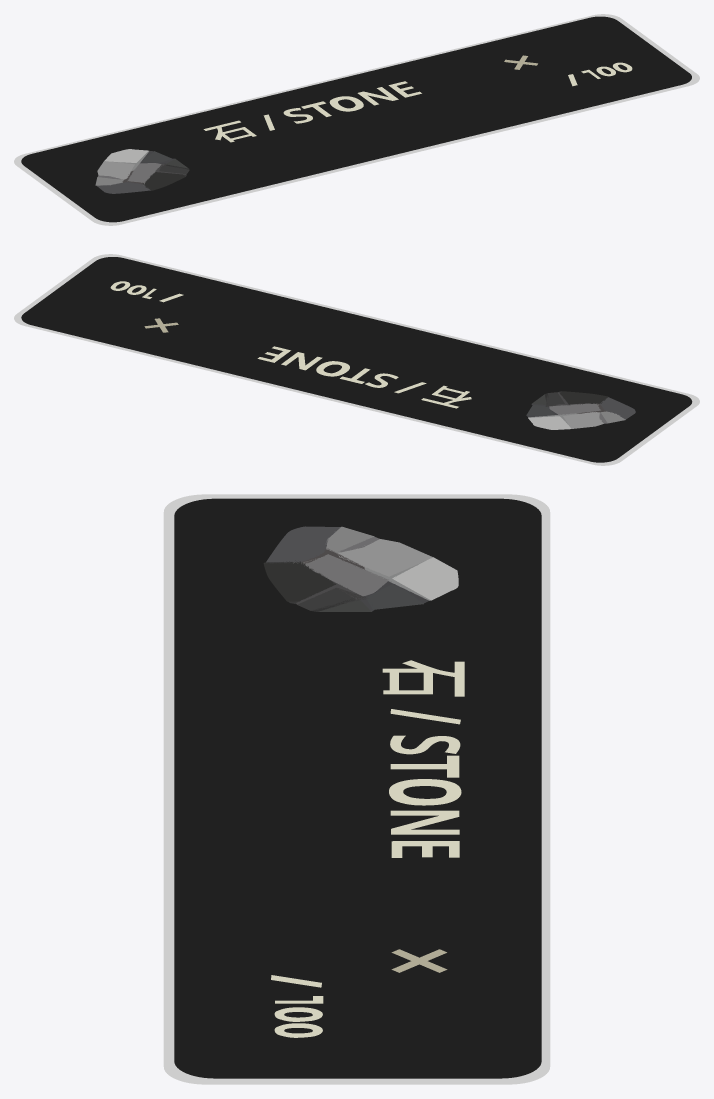
Rendered from STOONE.fbx.
3 renders of one model, top to bottom at view 1: azimuth 30°, elevation 25°; view 2: azimuth 150°, elevation 25°; view 3: azimuth 270°, elevation 25°, orthographic. The views are drawn at different scales.
Parts seen in each view (by area): view 1: Curve.001, Curve, Curve.035, Curve.038, Curve.032, Curve.037, Curve.036; view 2: Curve.001, Curve, Curve.035, Curve.038, Curve.037, Curve.036, Curve.032; view 3: Curve.001, Curve, Curve.035, Curve.038, Curve.032, Curve.037, Curve.036, Curve.024.
Part boxes in pixels (x1,y1,x2,y2): Curve.001: (21, 16, 691, 222); Curve: (14, 14, 699, 225); Curve.035: (97, 161, 134, 179); Curve.038: (142, 172, 185, 190); Curve.032: (97, 182, 150, 193); Curve.037: (104, 149, 148, 162); Curve.036: (127, 163, 161, 182); Curve.001: (21, 257, 692, 462); Curve: (14, 254, 699, 465); Curve.035: (563, 412, 603, 428); Curve.038: (560, 391, 607, 404); Curve.037: (528, 416, 570, 429); Curve.036: (549, 403, 600, 415); Curve.032: (600, 397, 635, 419); Curve.001: (174, 498, 541, 1078); Curve: (163, 494, 550, 1084); Curve.035: (338, 539, 432, 576); Curve.038: (263, 560, 335, 601); Curve.032: (266, 526, 340, 562); Curve.037: (392, 557, 458, 600); Curve.036: (305, 554, 388, 596); Curve.024: (389, 779, 461, 805).
Bounding box in the file's own units: 15.94 × 0.05 × 4.41.
